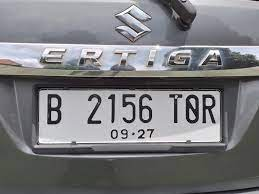number_plate: (21, 81, 238, 147)
